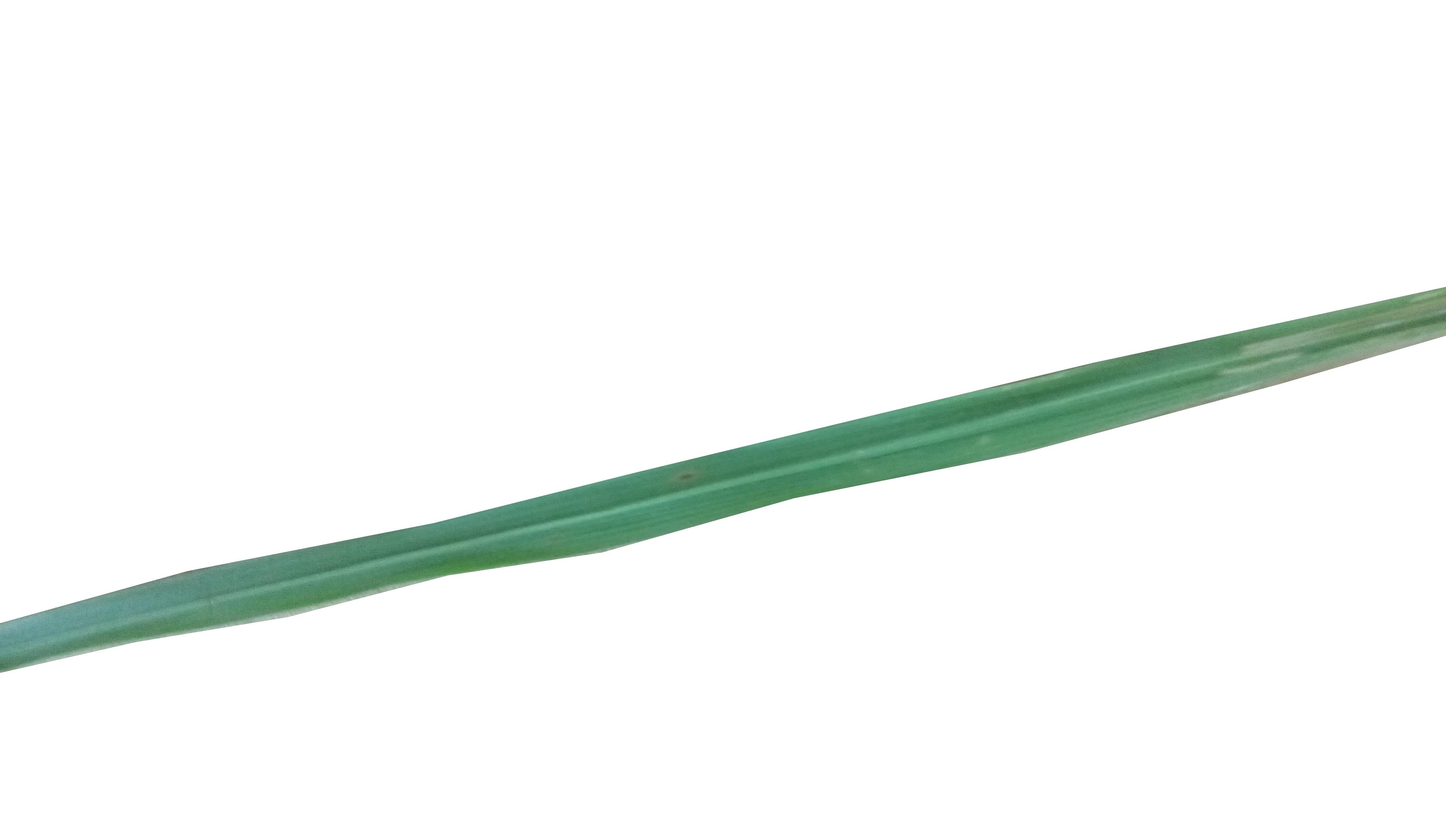Brown spot: (677, 467, 697, 493)
